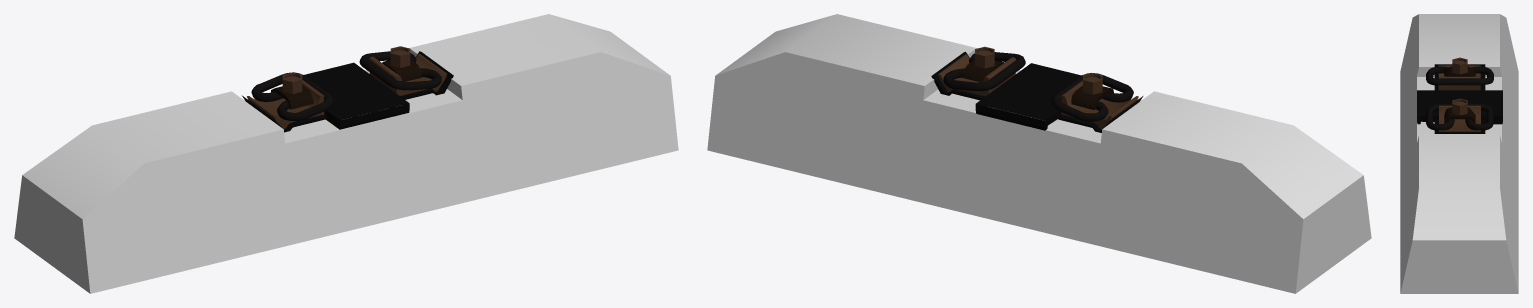
The model's file is Hav_LOD_1.FBX.
The picture shows the model from 3 angles, left to right: view 1: azimuth 30°, elevation 25°; view 2: azimuth 150°, elevation 25°; view 3: azimuth 270°, elevation 25°; orthographic projection. The views are drawn at different scales.
Visible parts, largest first — view 1: Object010, Object011; view 2: Object010, Object011; view 3: Object010, Object011.
Boxes of the visible parts, x1,y1,x2,y2 form: Object010: [14, 14, 678, 293]; Object011: [242, 46, 453, 132]; Object010: [707, 14, 1371, 293]; Object011: [931, 46, 1143, 132]; Object010: [1400, 14, 1518, 293]; Object011: [1417, 57, 1502, 133].
Bounding box in the file's own units: 49.66 × 10.5 × 11.12.
